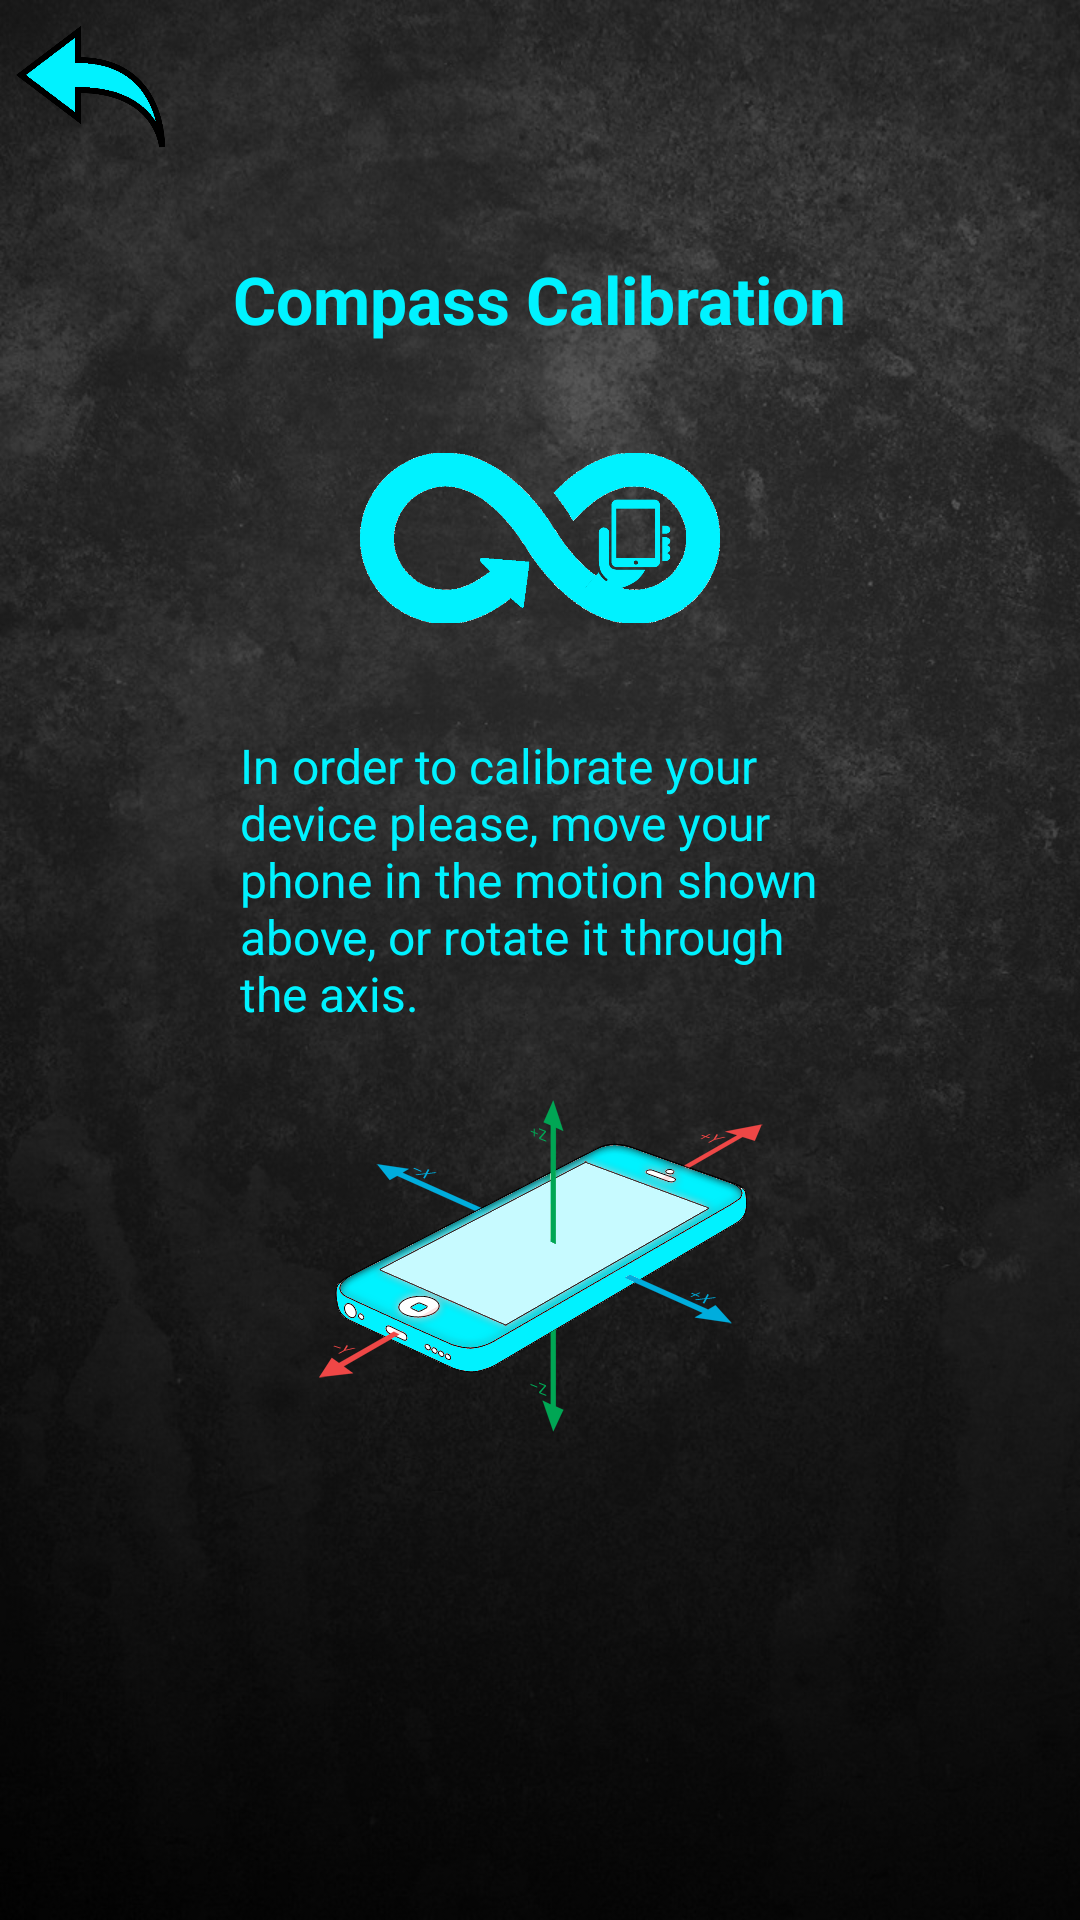

Icons on this 1080 x 1920 Android screen, each with its box as {"left": x1, "top": y1, "right": x2, "bottom": y2}:
arrow: {"left": 17, "top": 26, "right": 165, "bottom": 147}
how to calibrate: {"left": 360, "top": 358, "right": 720, "bottom": 684}
